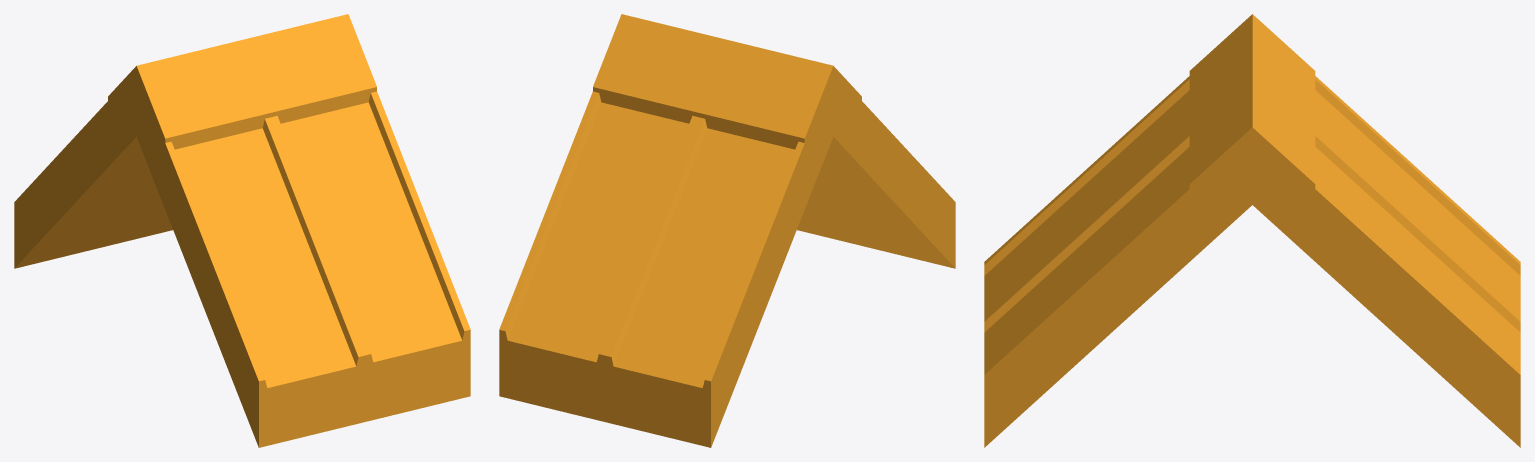
File: SM_Roof_Metal_Regular_1x1m_Center.fbx
3 renders of one model, left to right at view 1: azimuth 30°, elevation 25°; view 2: azimuth 150°, elevation 25°; view 3: azimuth 270°, elevation 25°, orthographic. The views are drawn at different scales.
Visible parts, largest first — view 1: roof-metal-regular-1x1m-center; view 2: roof-metal-regular-1x1m-center; view 3: roof-metal-regular-1x1m-center.
Boxes of the visible parts, left/top/right/bottom form: roof-metal-regular-1x1m-center: left=14, top=14, right=470, bottom=447; roof-metal-regular-1x1m-center: left=499, top=14, right=955, bottom=447; roof-metal-regular-1x1m-center: left=984, top=14, right=1520, bottom=447.
Size of the model in its own units: 1 by 1.32 by 2.
